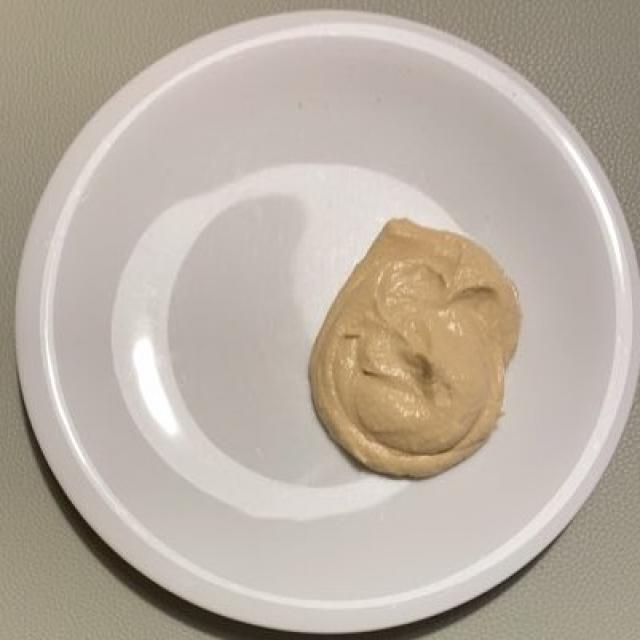hummus: (310, 217, 515, 476)
